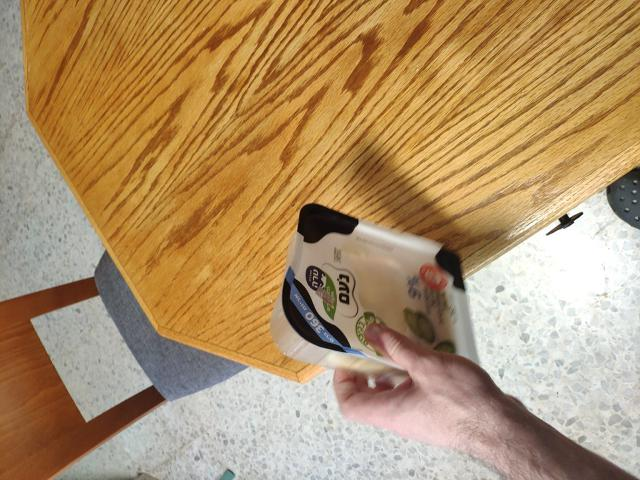cheese: (264, 222, 486, 371)
